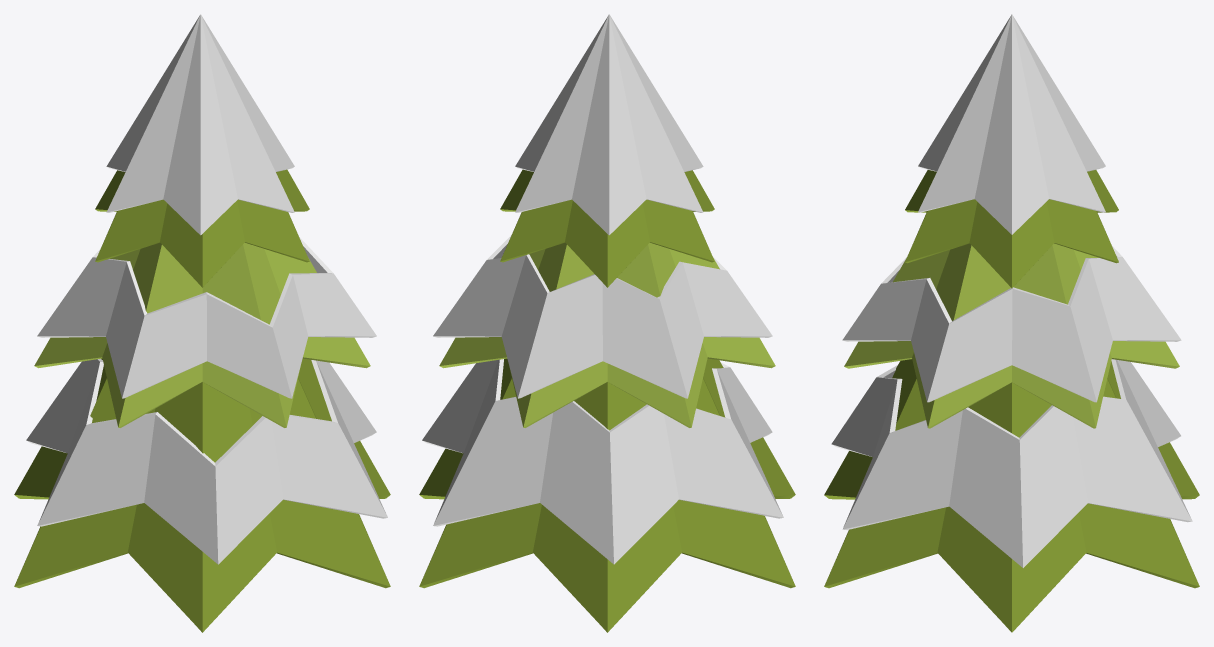
Rendered from pinNeige.fbx.
3 renders of one model, left to right at view 1: azimuth 30°, elevation 25°; view 2: azimuth 150°, elevation 25°; view 3: azimuth 270°, elevation 25°, orthographic.
Visible parts, largest first — view 1: pinNeige; view 2: pinNeige; view 3: pinNeige.
Boxes of the visible parts, left/top/right/bottom form: pinNeige: left=14, top=14, right=390, bottom=632; pinNeige: left=419, top=14, right=795, bottom=632; pinNeige: left=824, top=14, right=1199, bottom=632.
Size of the model in its own units: 458 by 636 by 397.
